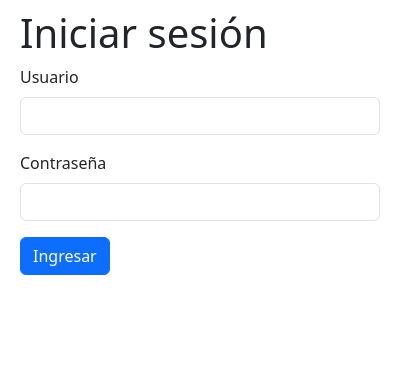
Login › muestra el rechazo del backend y no guarda sesión
Type "admin" into the field labelled "Usuario".
click(200, 116); type("admin")  # box x1=20 y1=97 x2=380 y2=135
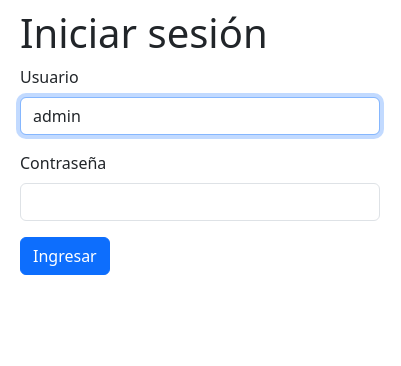
Type "mala" into the password field labelled "Contraseña".
click(200, 202); type("mala")  # box x1=20 y1=183 x2=380 y2=221
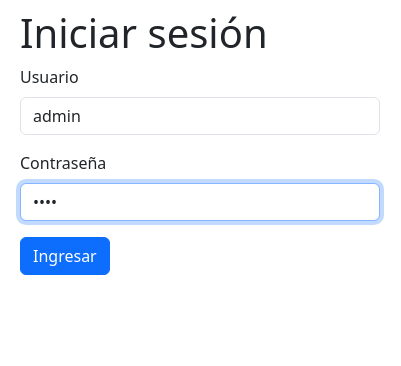
Click the button "Ingresar".
click(65, 256)  # box x1=20 y1=237 x2=110 y2=275
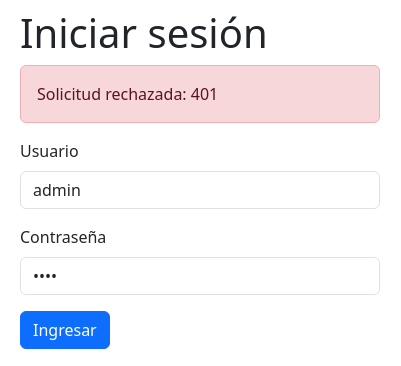
Expected: the message reads "Solicitud rechazada: 401", x1=37 y1=83 x2=218 y2=105
